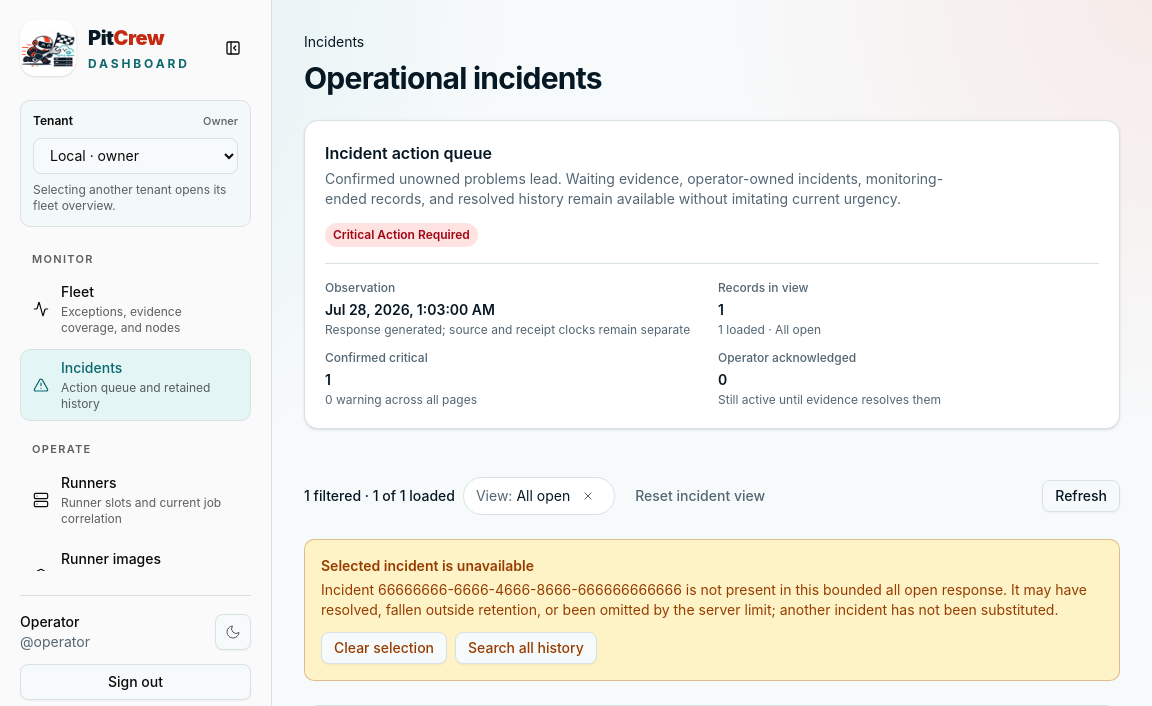
Test: IncidentsPage › does not substitute another incident when a deep-linked record is unavailable
Expected: the text "Selected incident is unavailable" is shown, [321,557,534,574]
Expected: the heading "default capacity is below target" is not shown
Click the button "Clear selection". click: [384, 648]
box: [321,632,447,664]
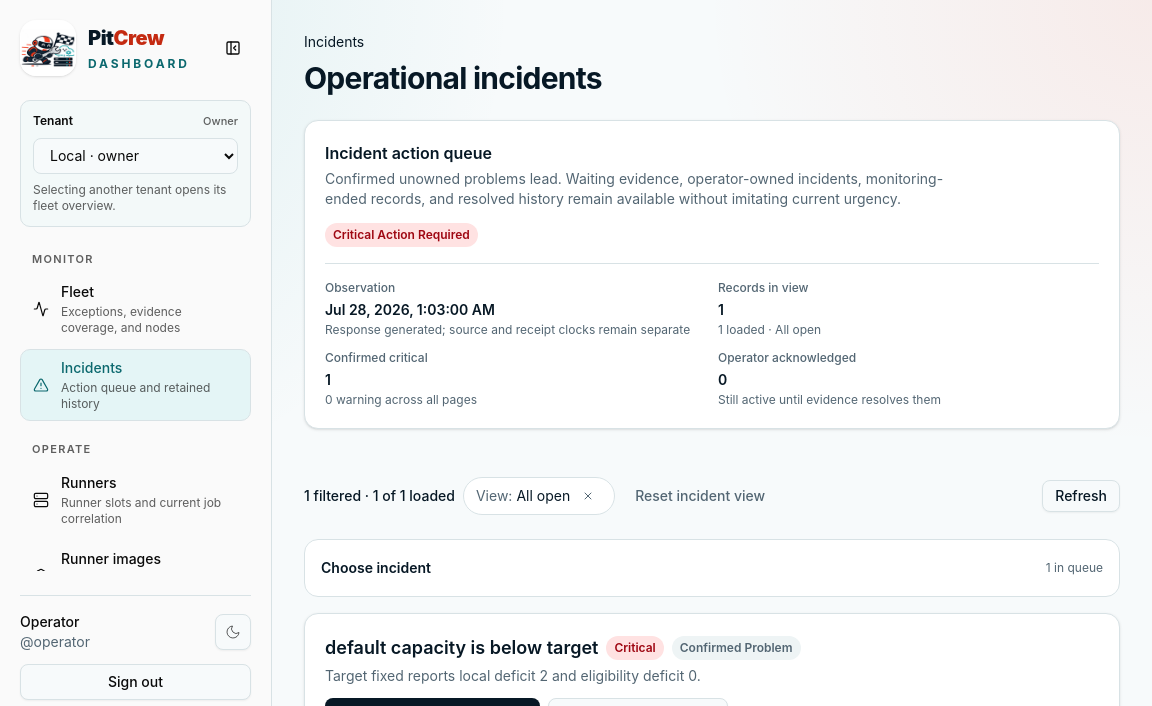
Expected: the heading "default capacity is below target" is shown, [325,634,598,662]
